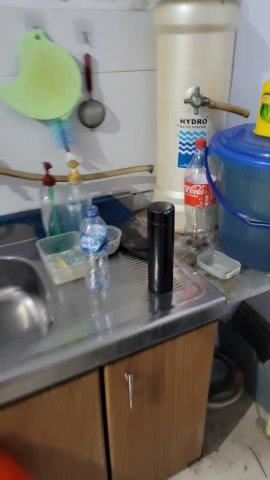botolplastik: (183, 139, 219, 250), (79, 205, 112, 291)
